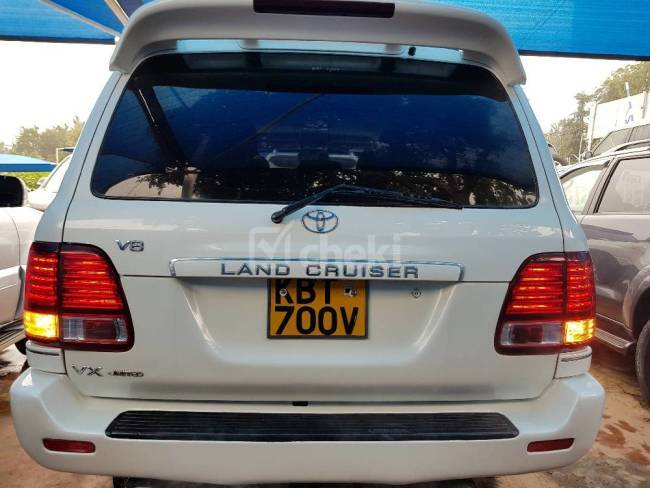licencePlate: (268, 280, 369, 339)
